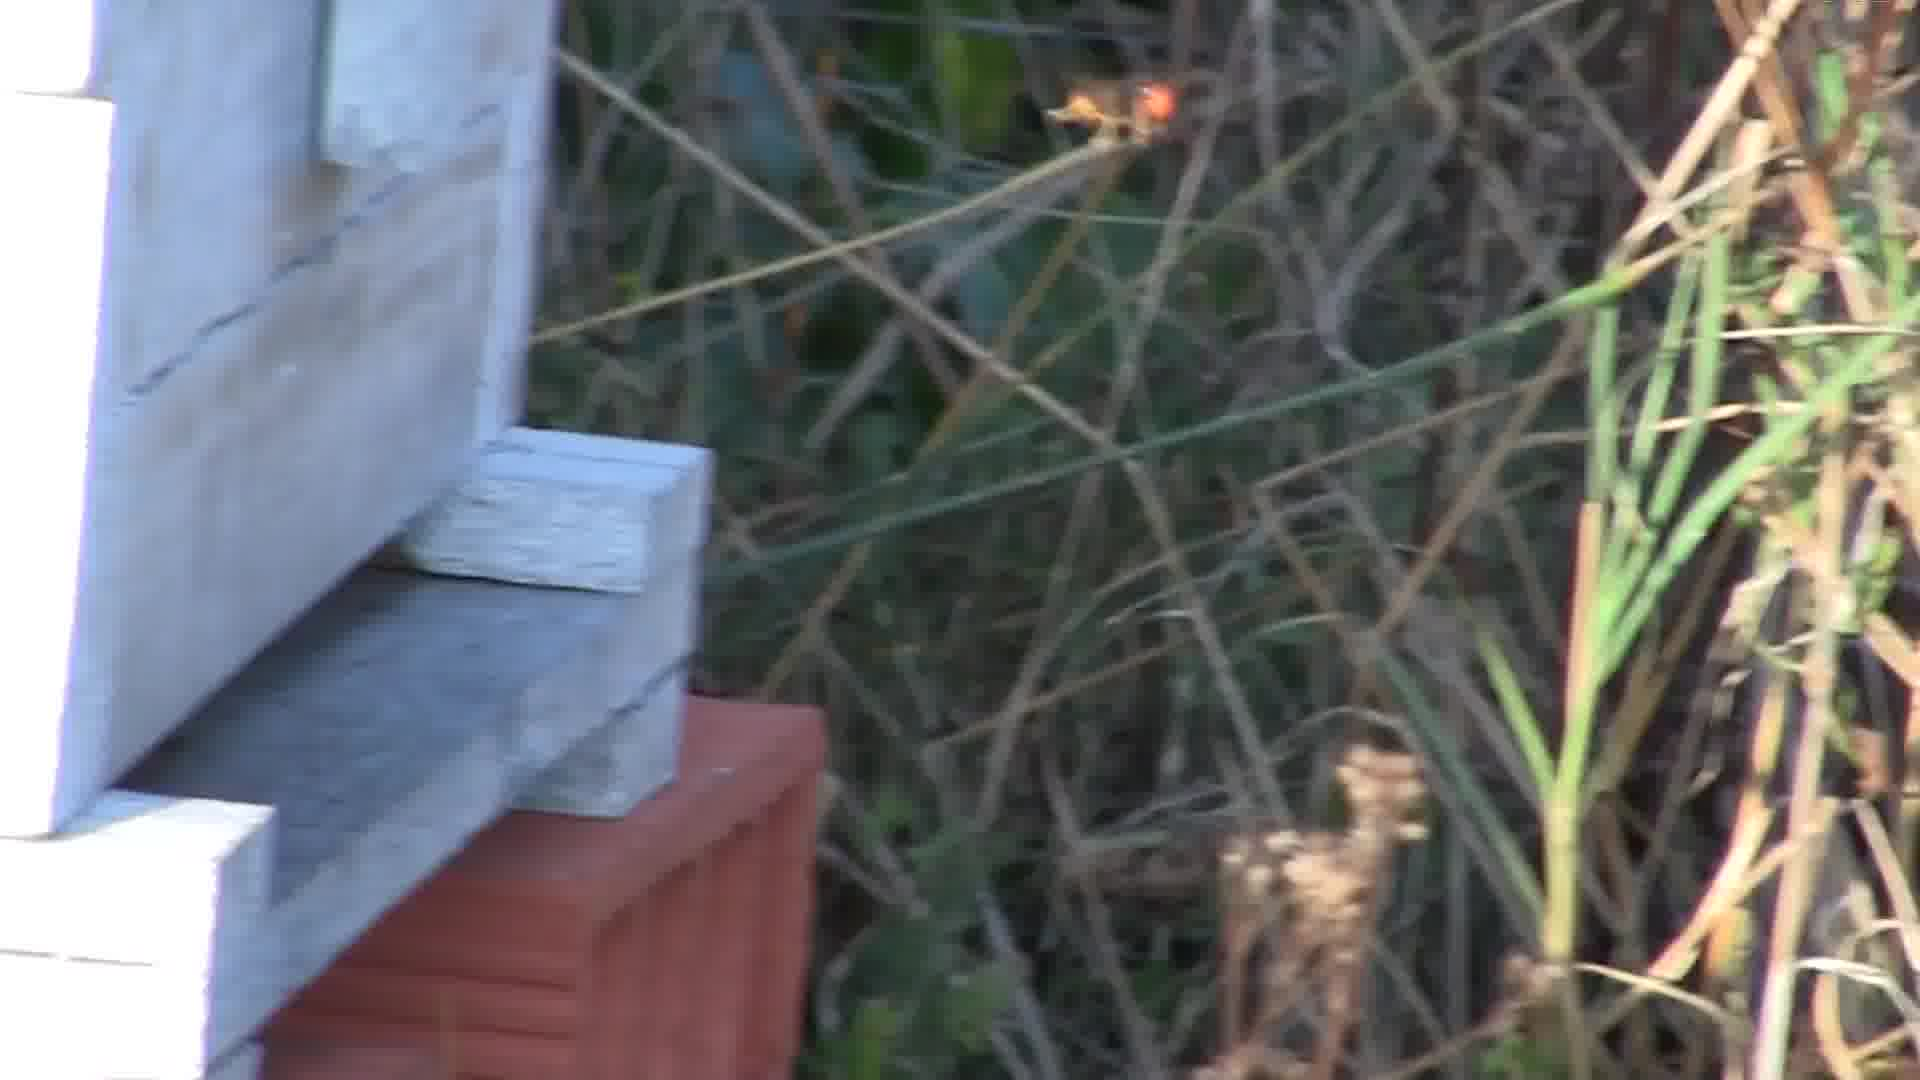hornet: (1050, 61, 1192, 160)
